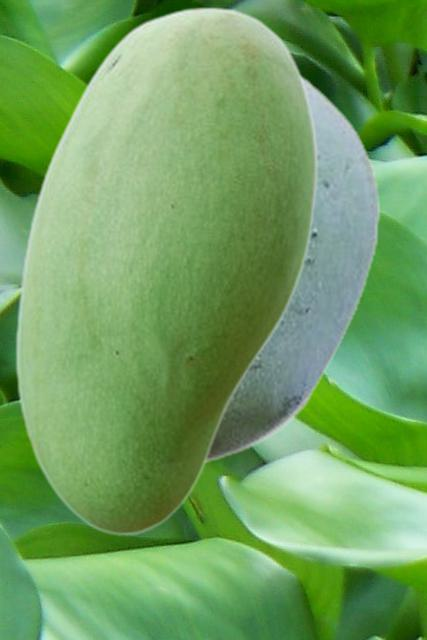green_mango: (14, 6, 316, 535), (24, 70, 380, 467)
